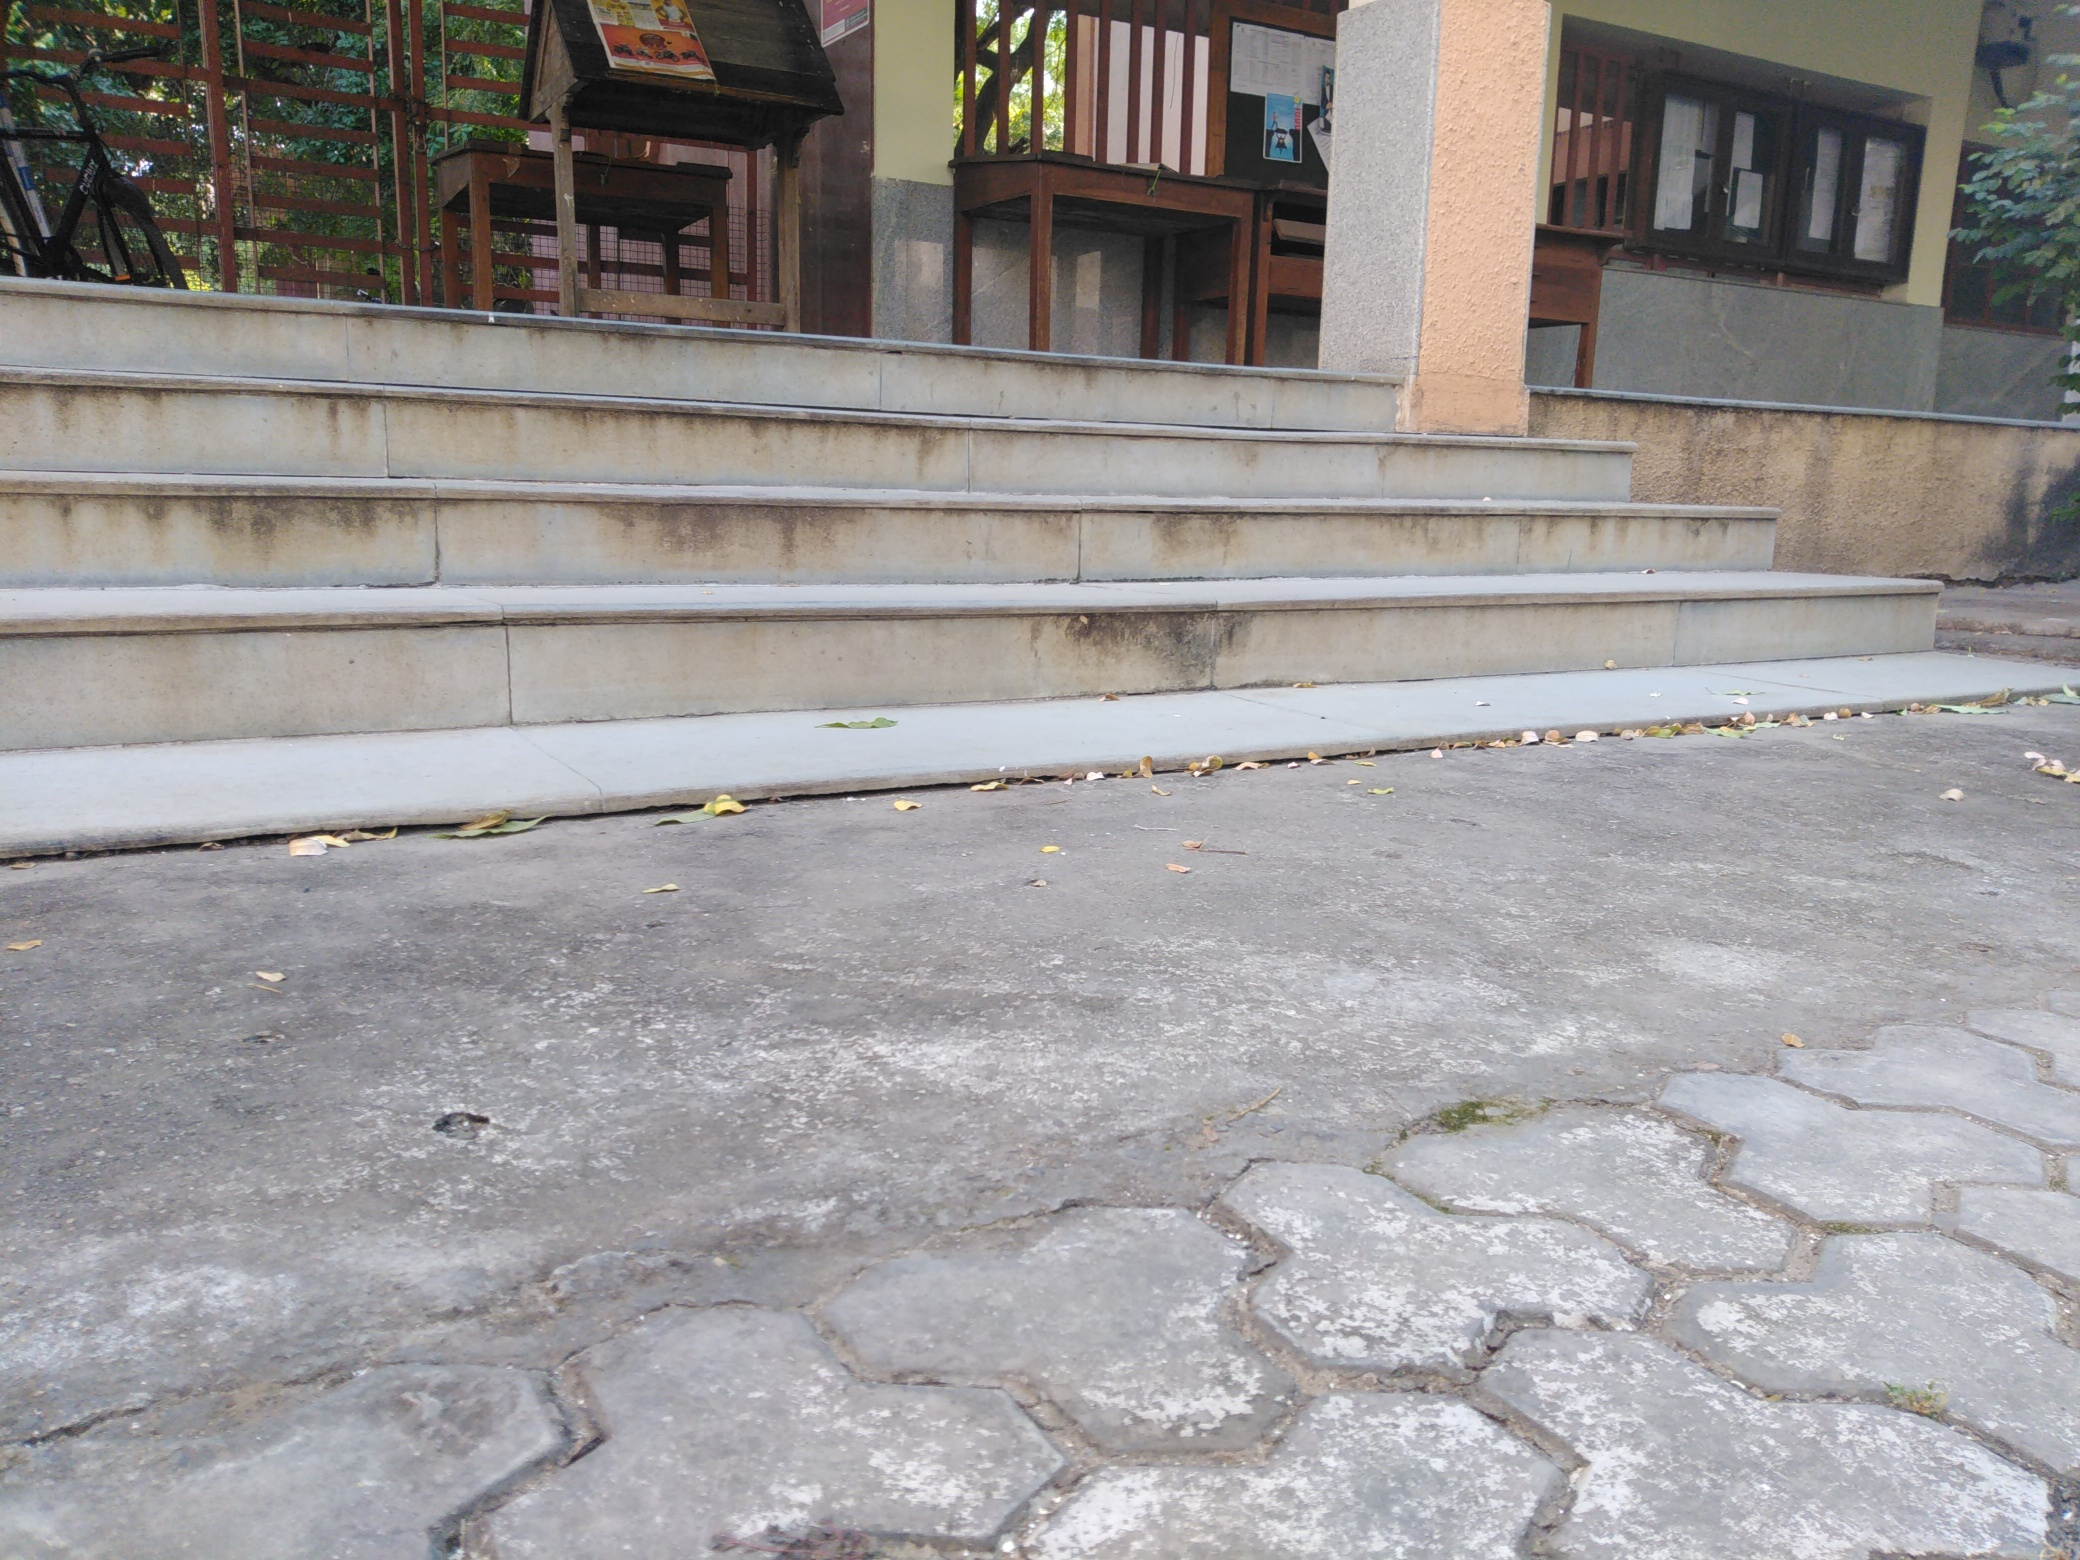stairs_up: (11, 262, 1905, 695)
